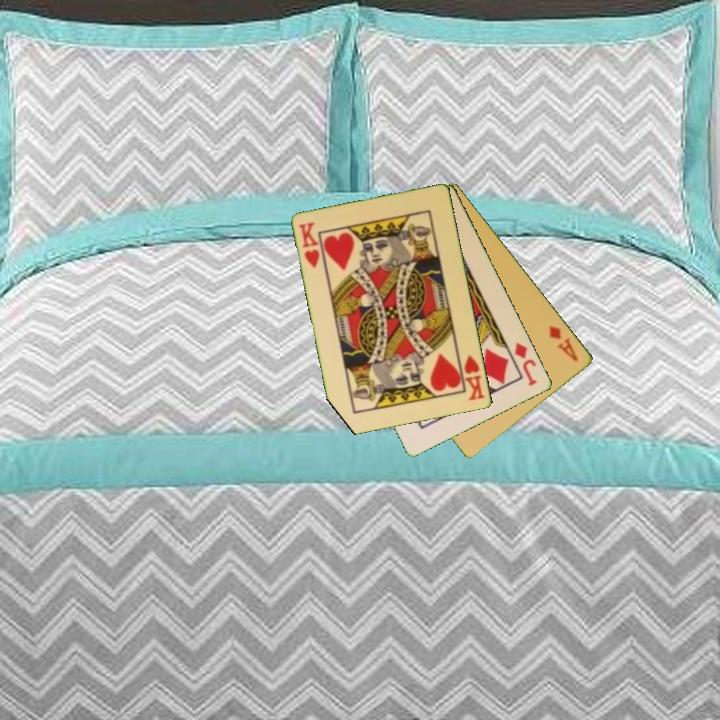Ad: (546, 322, 582, 365)
Jd: (511, 339, 540, 389)
Kh: (455, 350, 488, 403), (296, 219, 323, 272)
